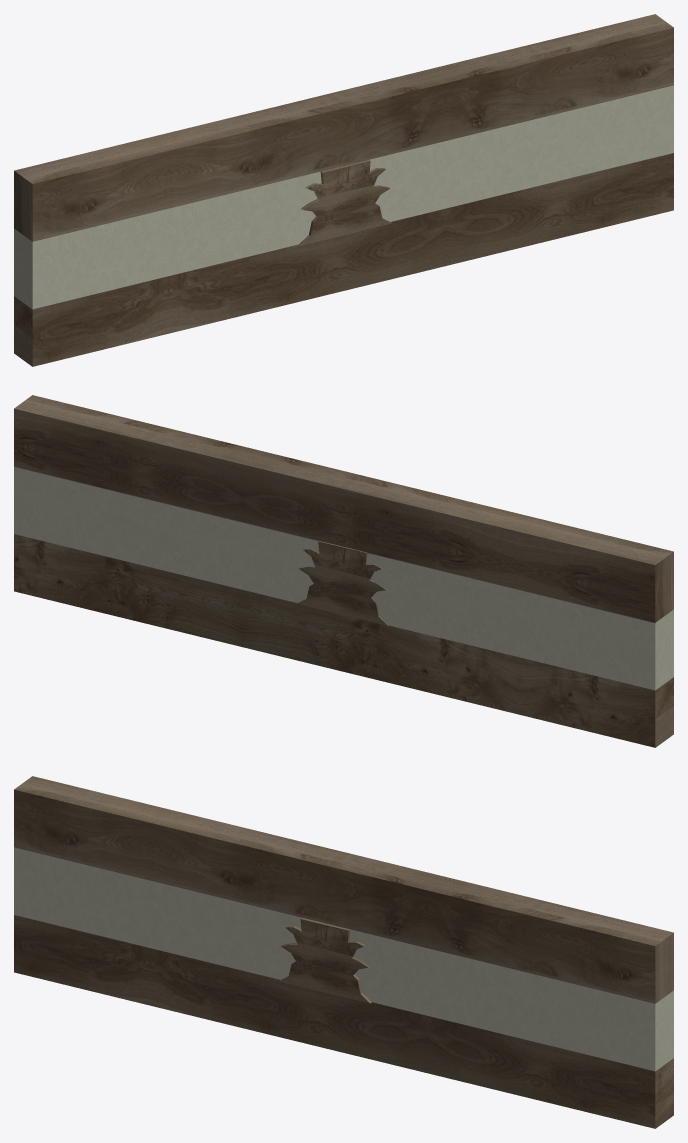
The model's file is SM_Sun_Won_Jang_C.fbx.
The picture shows the model from 3 angles, top to bottom: view 1: azimuth 30°, elevation 25°; view 2: azimuth 150°, elevation 25°; view 3: azimuth 330°, elevation 25°; orthographic projection.
Visible parts, largest first — view 1: SM_Sun_Won_Jang_C; view 2: SM_Sun_Won_Jang_C; view 3: SM_Sun_Won_Jang_C.
Part boxes in pixels (bbox=[...]): SM_Sun_Won_Jang_C: bbox=[14, 14, 673, 366]; SM_Sun_Won_Jang_C: bbox=[14, 395, 673, 747]; SM_Sun_Won_Jang_C: bbox=[14, 776, 673, 1128].
Size of the model in its own units: 300 by 81.7 by 17.
